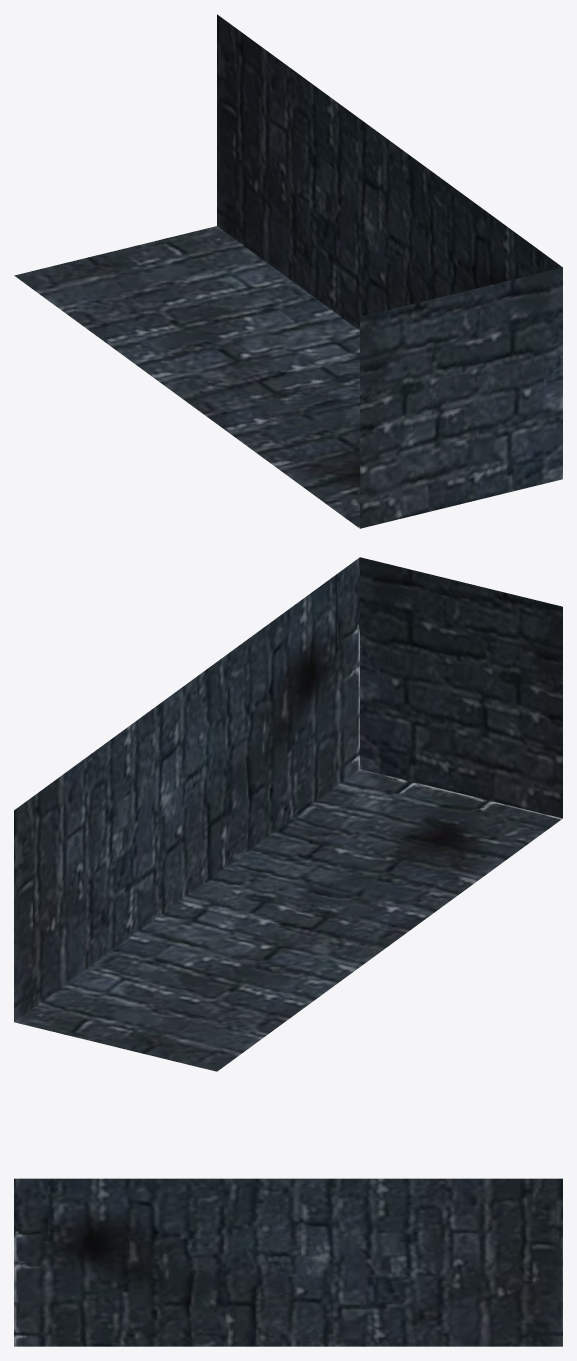
3 renders of one model, top to bottom at view 1: azimuth 30°, elevation 25°; view 2: azimuth 150°, elevation 25°; view 3: azimuth 270°, elevation 25°, orthographic. The views are drawn at different scales.
Parts seen in each view (by area): view 1: model_Object35; view 2: model_Object35; view 3: model_Object35.
Boxes of the visible parts, <box> form: model_Object35: <box>14,14,562,528</box>; model_Object35: <box>14,557,562,1071</box>; model_Object35: <box>14,1178,562,1346</box>.
Size of the model in its own units: 1.5 by 1.5 by 4.43.
1 material, 1 textured.
